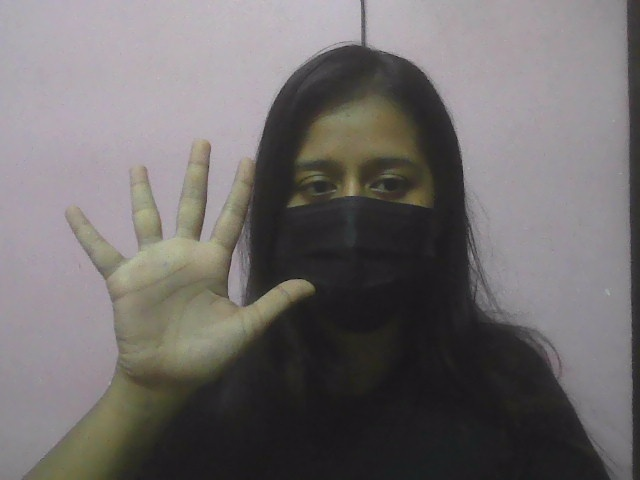Hello: (40, 110, 325, 407)
